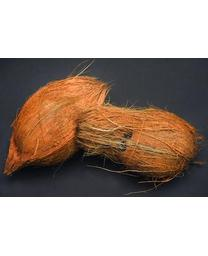coconut: (80, 100, 198, 179), (10, 74, 109, 167)
